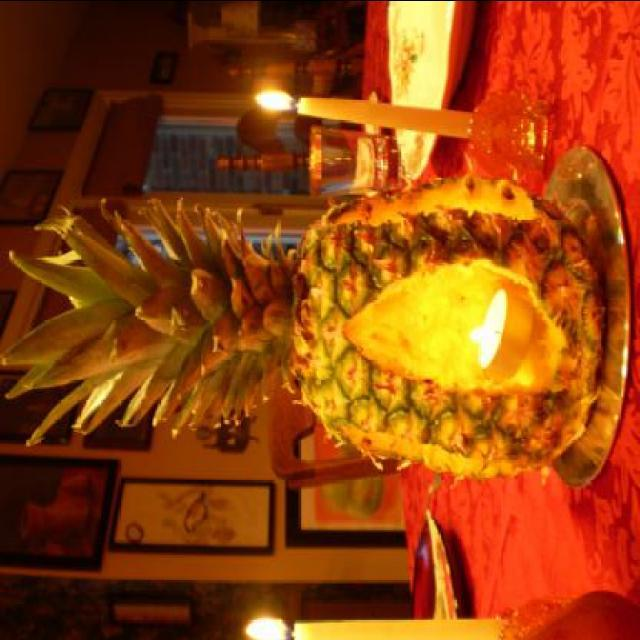Pineapple: (1, 150, 604, 481)
